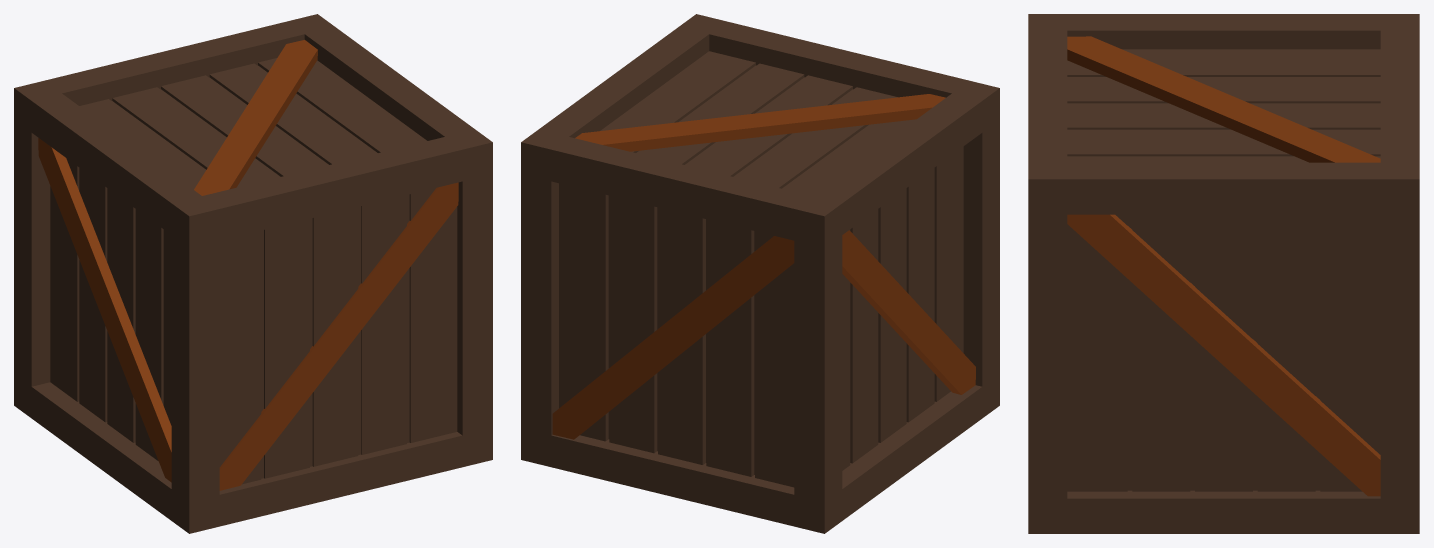
Rendered from kubic11.fbx.
3 views of the same model, side by side, from view 1: azimuth 30°, elevation 25°; view 2: azimuth 150°, elevation 25°; view 3: azimuth 270°, elevation 25° (orthographic). The views are drawn at different scales.
Visible parts, largest first — view 1: Cube, Cube.003, Cube.002, Cube.005; view 2: Cube, Cube.001, Cube.005, Cube.002; view 3: Cube, Cube.004, Cube.005.
Boxes of the visible parts, bbox=[...] form: Cube: bbox=[14, 14, 492, 533]; Cube.003: bbox=[219, 182, 458, 490]; Cube.002: bbox=[38, 138, 171, 482]; Cube.005: bbox=[194, 40, 317, 195]; Cube: bbox=[521, 14, 999, 533]; Cube.001: bbox=[552, 236, 794, 439]; Cube.005: bbox=[575, 94, 945, 151]; Cube.002: bbox=[842, 230, 975, 394]; Cube: bbox=[1028, 14, 1419, 533]; Cube.004: bbox=[1067, 214, 1380, 496]; Cube.005: bbox=[1067, 36, 1380, 162].
Size of the model in its own units: 378 by 378 by 378.
